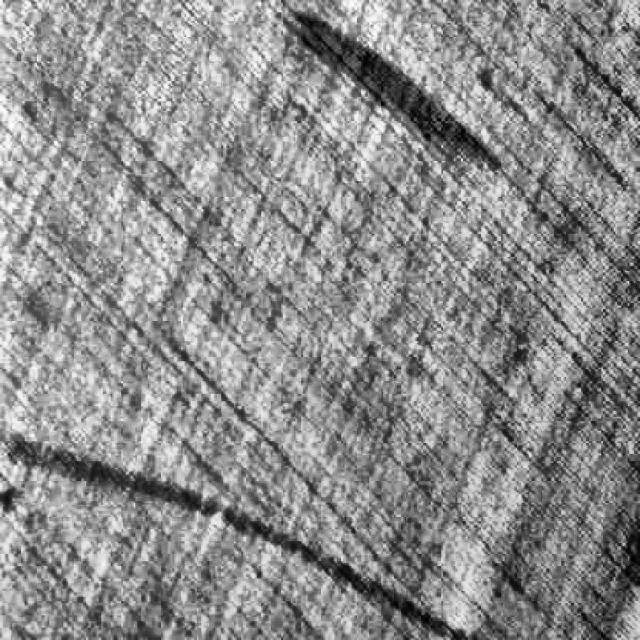oil_spot: (0, 406, 480, 640), (270, 2, 497, 176)
